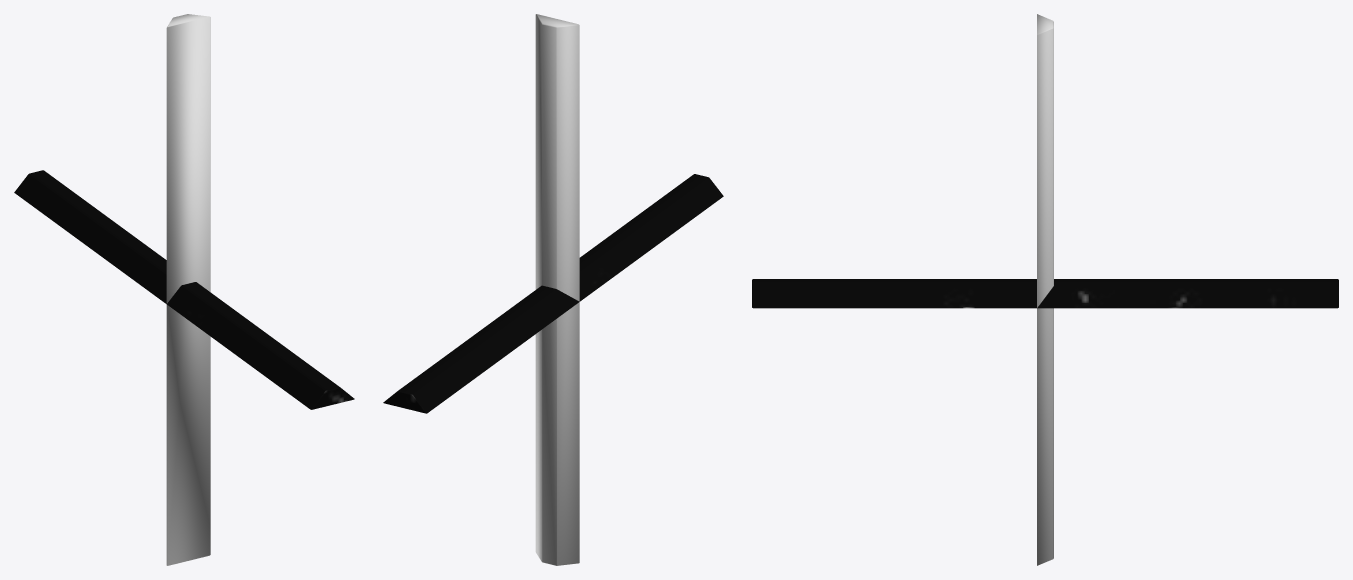
The model's file is SM_Step_Entrance_Gate.fbx.
3 renders of one model, left to right at view 1: azimuth 30°, elevation 25°; view 2: azimuth 150°, elevation 25°; view 3: azimuth 270°, elevation 25°, orthographic.
Parts seen in each view (by area): view 1: SM_Step_Entrance_Gate_ConvexHulls, SM_Step_Entrance_Gate; view 2: SM_Step_Entrance_Gate_ConvexHulls, SM_Step_Entrance_Gate; view 3: SM_Step_Entrance_Gate, SM_Step_Entrance_Gate_ConvexHulls.
Part boxes in pixels (x1,y1,x2,y2): SM_Step_Entrance_Gate_ConvexHulls: (166,14,210,565); SM_Step_Entrance_Gate: (14,170,354,409); SM_Step_Entrance_Gate_ConvexHulls: (535,14,579,565); SM_Step_Entrance_Gate: (383,174,723,413); SM_Step_Entrance_Gate: (752,279,1338,308); SM_Step_Entrance_Gate_ConvexHulls: (1037,14,1053,565).
Size of the model in its own units: 0.6 by 7 by 7.
